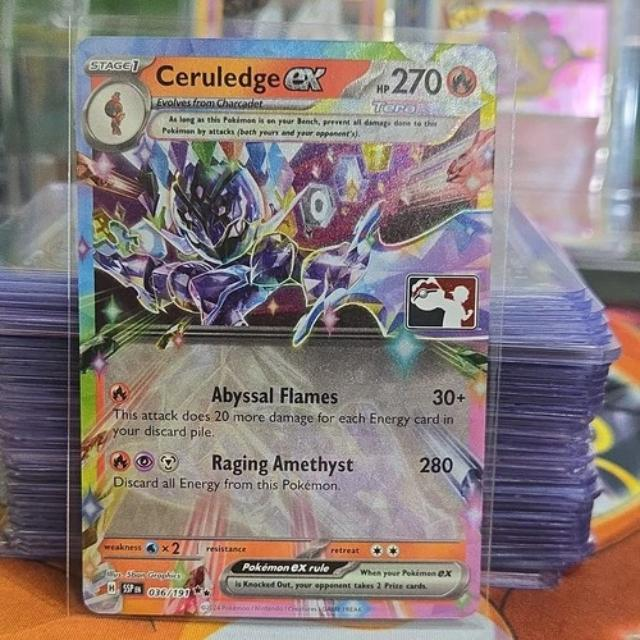Card: (69, 35, 500, 621)
Name: (150, 59, 328, 95)
